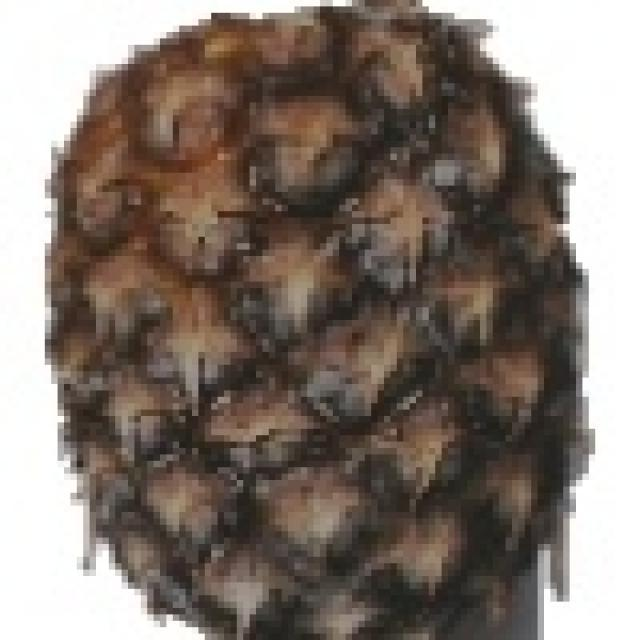pineapple: (48, 0, 589, 640)
